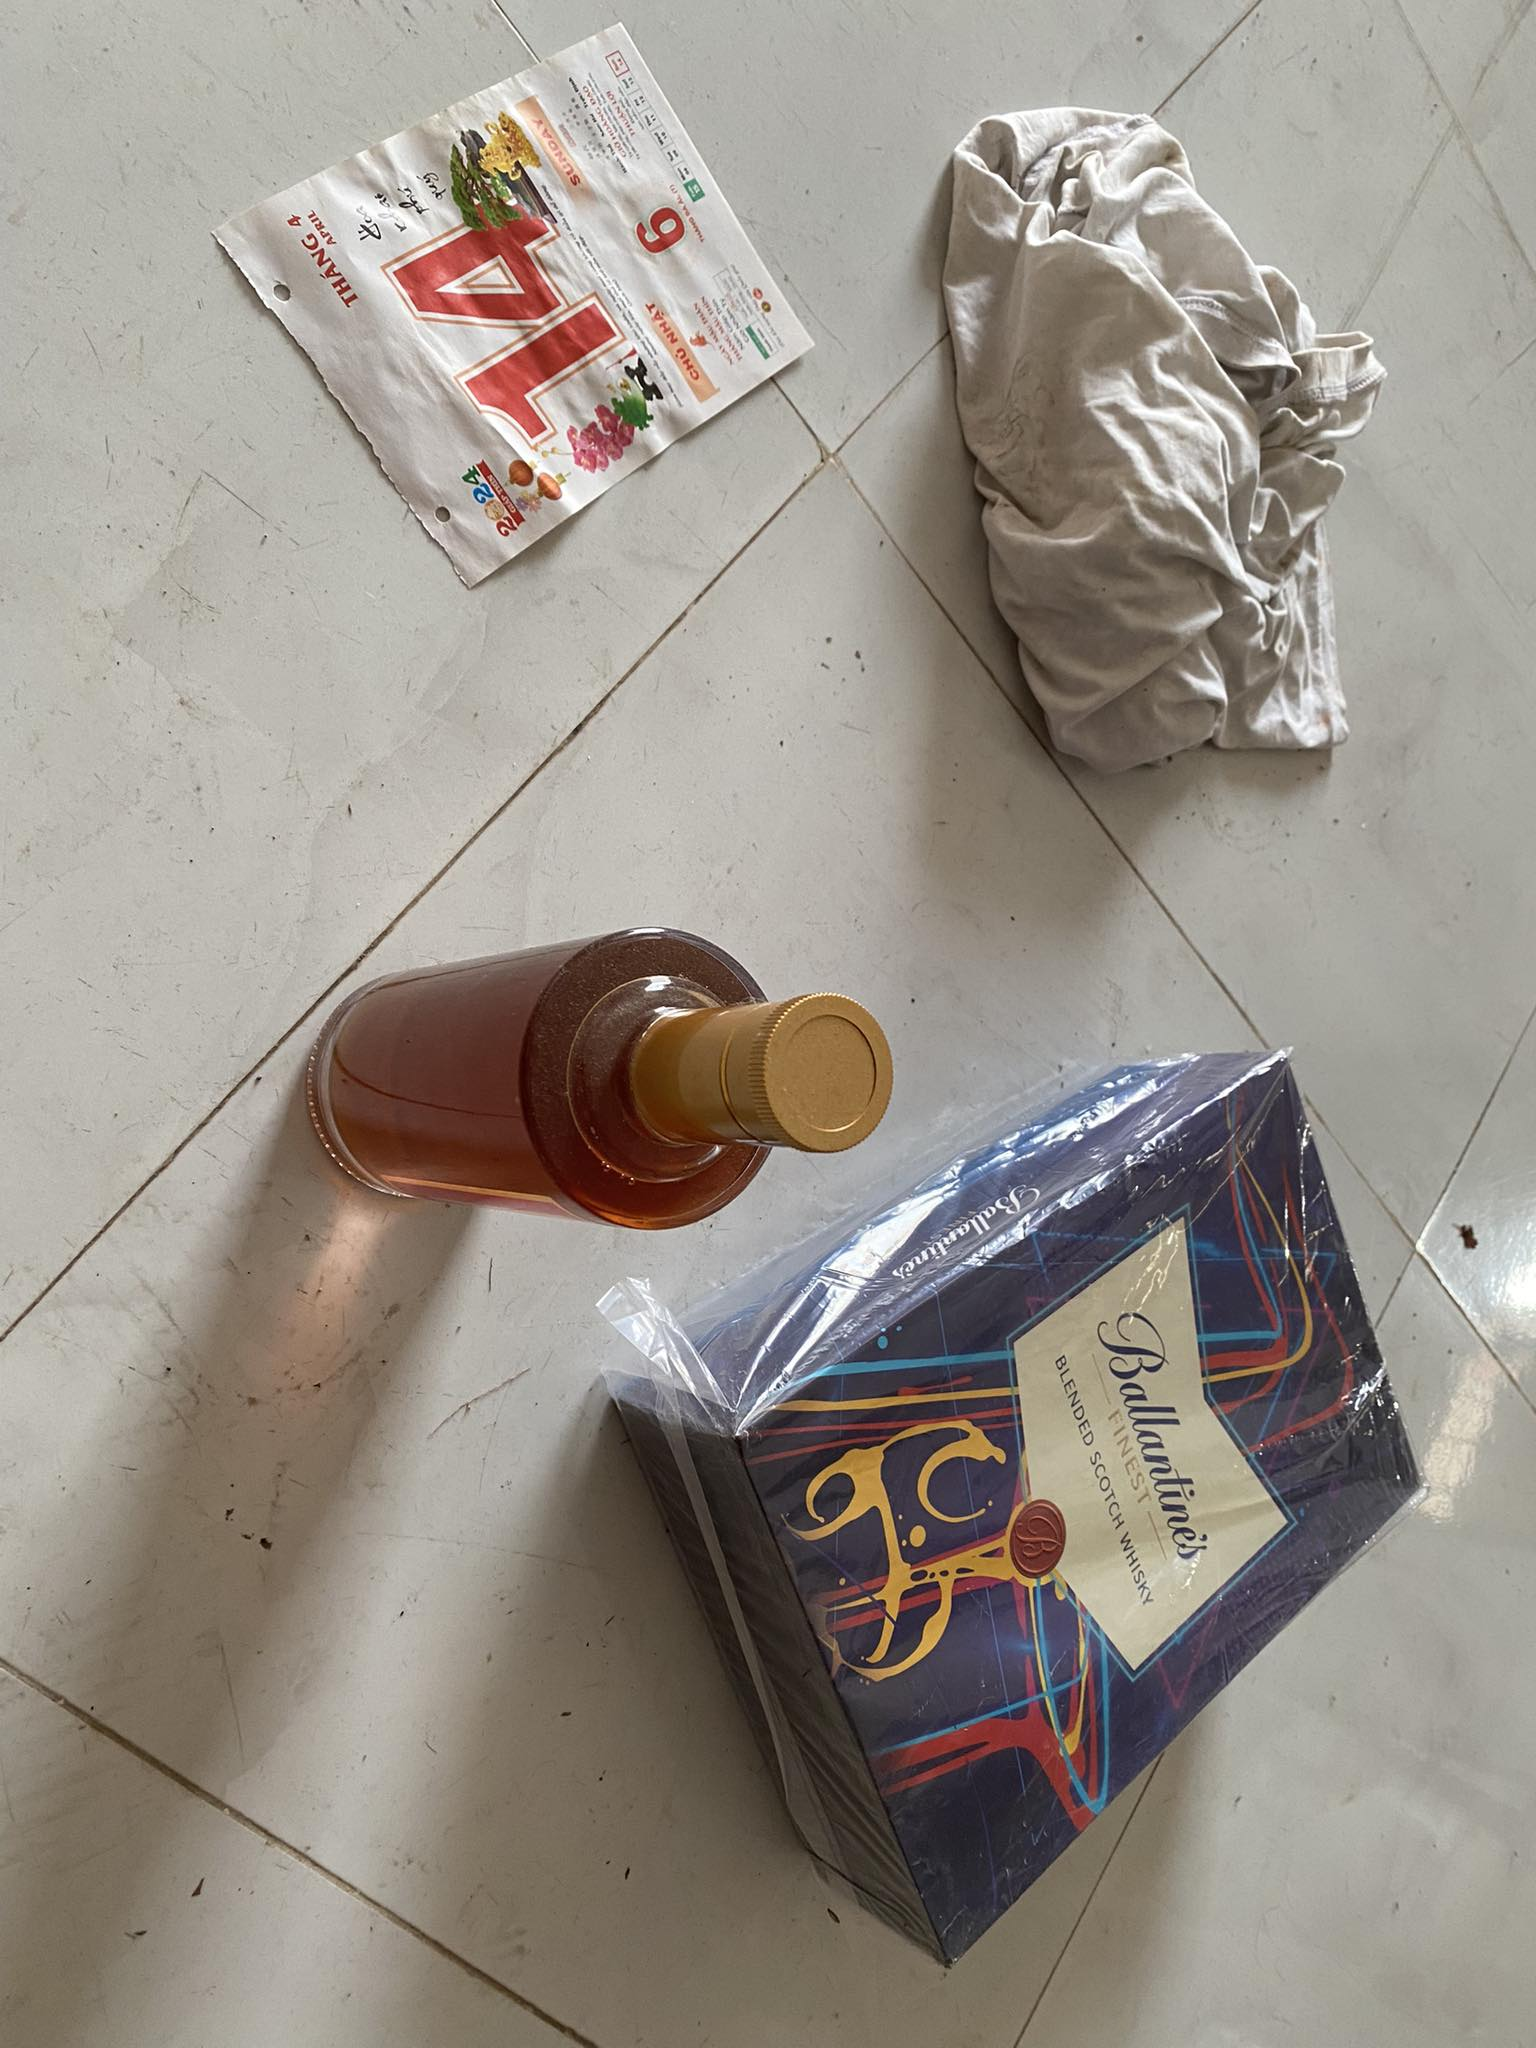cardboard: (608, 1047, 1470, 1972)
clothes: (902, 45, 1394, 789)
glass: (316, 914, 894, 1234)
paper: (168, 31, 837, 579)
